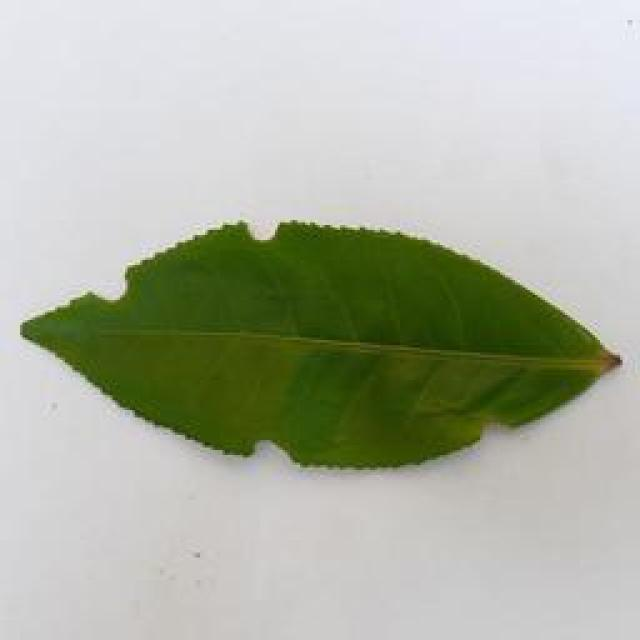Healthy: (24, 212, 626, 473)
